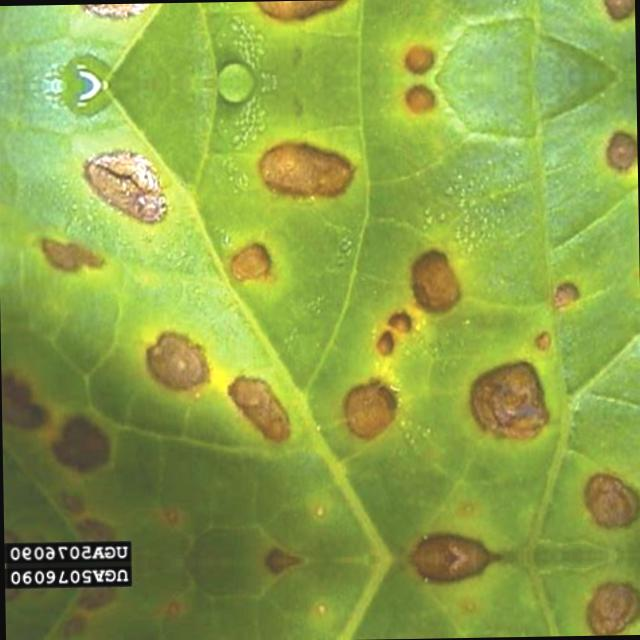Lettuce - Anthracnose: (0, 74, 640, 541), (0, 0, 633, 85), (5, 576, 640, 640)
